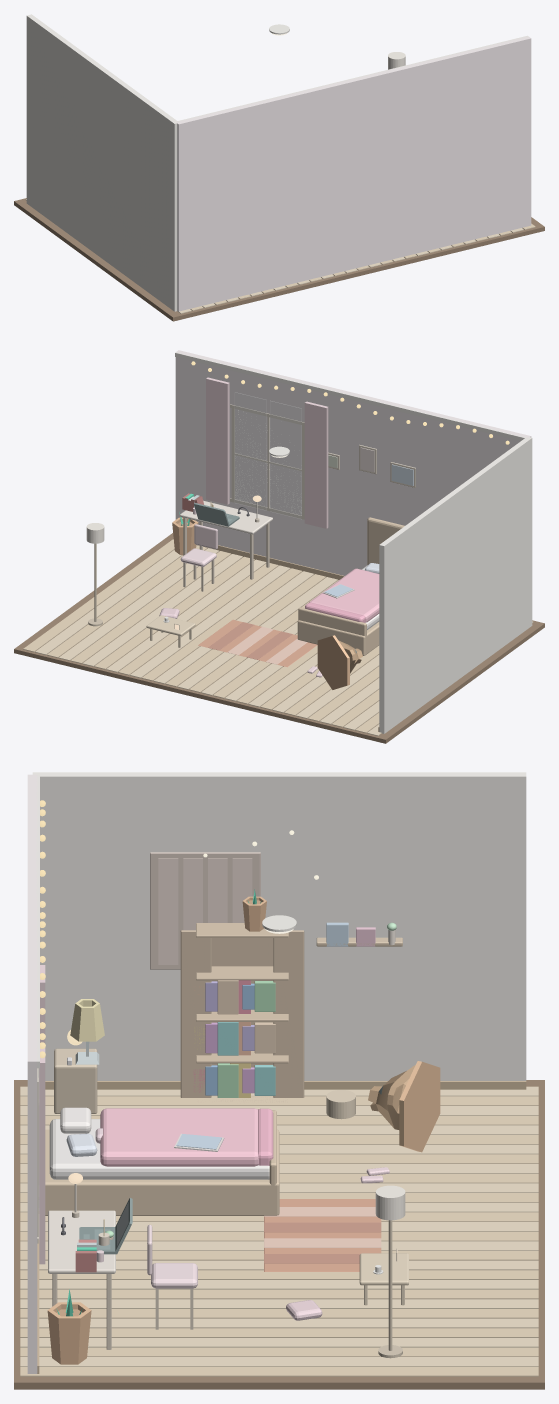
File: cozy-bedroom-v8.glb
3 renders of one model, top to bottom at view 1: azimuth 30°, elevation 25°; view 2: azimuth 150°, elevation 25°; view 3: azimuth 270°, elevation 25°, orthographic. The views are drawn at different scales.
Visible parts, largest first — view 1: WBack, WLeft, FloorBase, CR_B; view 2: WBack, WLeft, FloorBase, CuInR, CuInL, CuOutL, CuOutR, Blanket, CR_B, Plank20, Plank29, Plank19 (+36 smaller); view 3: WLeft, FloorBase, Blanket, BBase, WBack, Plank29, Plank21, Plank24, Plank28, SR, Plank25, Plank26 (+59 smaller).
Boxes of the visible parts, bbox=[...] form: WBack: bbox=[176, 36, 531, 311]; WLeft: bbox=[26, 14, 178, 311]; FloorBase: bbox=[14, 198, 544, 321]; CR_B: bbox=[176, 35, 528, 122]; WBack: bbox=[175, 350, 531, 575]; WLeft: bbox=[379, 436, 532, 733]; FloorBase: bbox=[14, 533, 544, 743]; CuInR: bbox=[234, 392, 266, 510]; CuInL: bbox=[270, 400, 301, 519]; CuOutL: bbox=[304, 401, 328, 528]; CuOutR: bbox=[206, 377, 229, 504]; Blanket: bbox=[309, 568, 379, 622]; CR_B: bbox=[175, 352, 527, 440]; Plank20: bbox=[130, 565, 290, 678]; Plank29: bbox=[23, 539, 174, 651]; Plank19: bbox=[141, 568, 302, 680]; WLeft: bbox=[32, 772, 526, 1080]; FloorBase: bbox=[14, 1080, 544, 1389]; Blanket: bbox=[100, 1108, 258, 1166]; BBase: bbox=[45, 1129, 279, 1215]; WBack: bbox=[27, 774, 37, 1373]; Plank29: bbox=[20, 1366, 538, 1376]; Plank21: bbox=[20, 1289, 538, 1299]; Plank24: bbox=[20, 1318, 538, 1328]; Plank28: bbox=[20, 1357, 538, 1366]; SR: bbox=[273, 930, 304, 1097]; Plank25: bbox=[20, 1328, 538, 1337]; Plank26: bbox=[20, 1338, 538, 1347].
Bounding box in the file's own units: 5.8 × 2.86 × 4.3.
